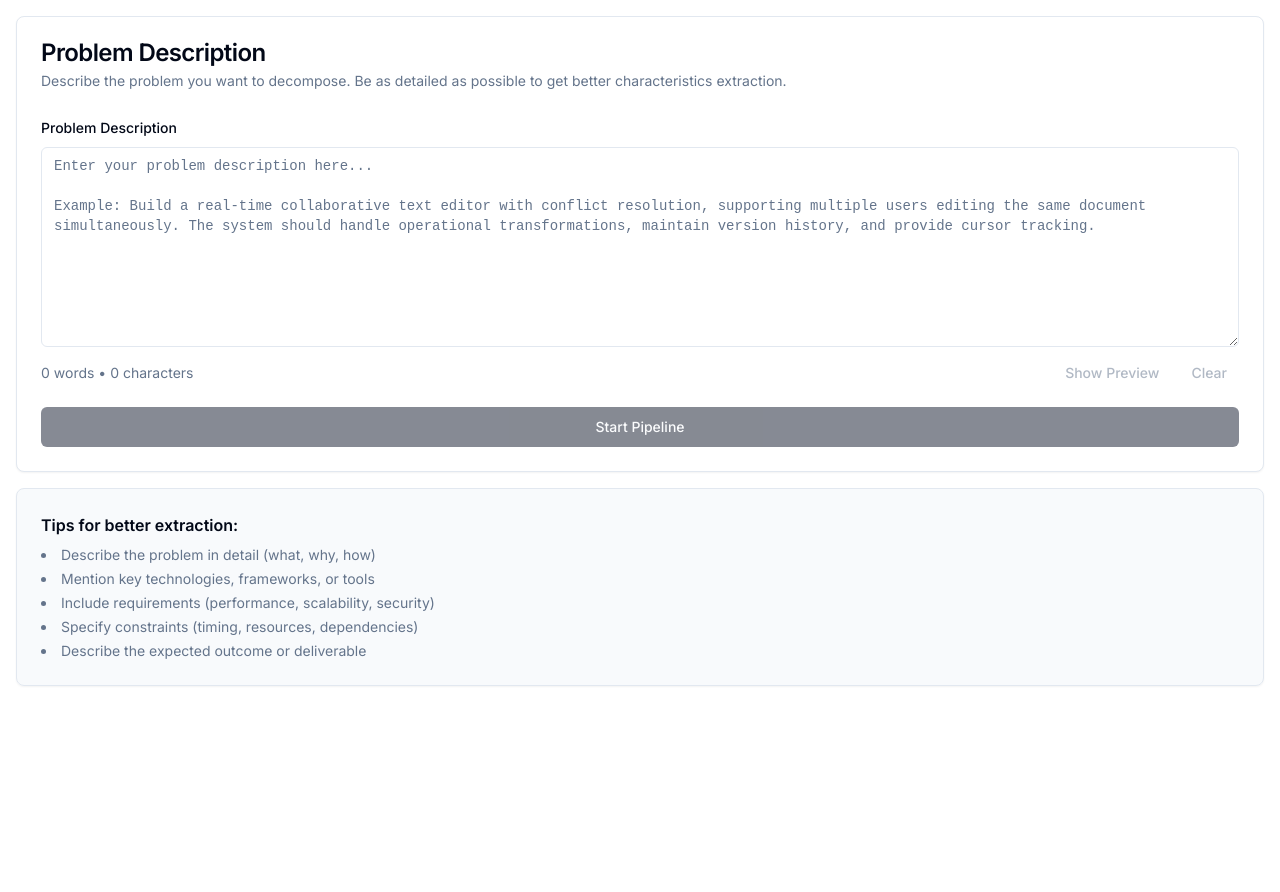
Test: ProblemInputDisplay › Characteristics Extraction › should display extracted characteristics
This screenshot has width=1280, height=892.
Replace the text in the text box named "Problem description input" with "Build a real-time collaborative text editor with complex algorithms" at [640, 247], box [41,147,1239,347]
Wait 500 ms
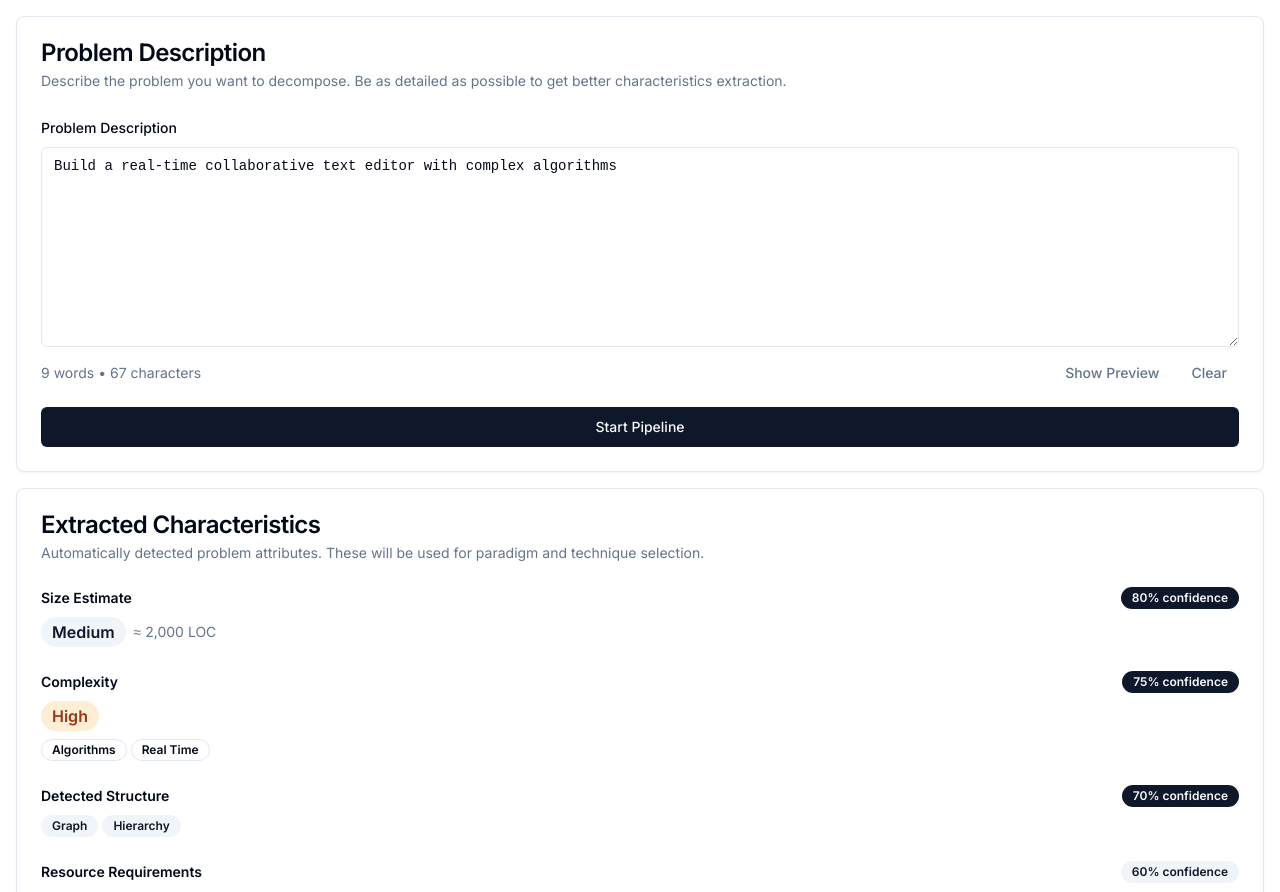
expect the heading "Extracted Characteristics" is shown: met, box [41,510,320,539]
expect the text "medium" is shown: met, box [41,617,126,647]
expect the text "high" is shown: met, box [41,701,99,731]
